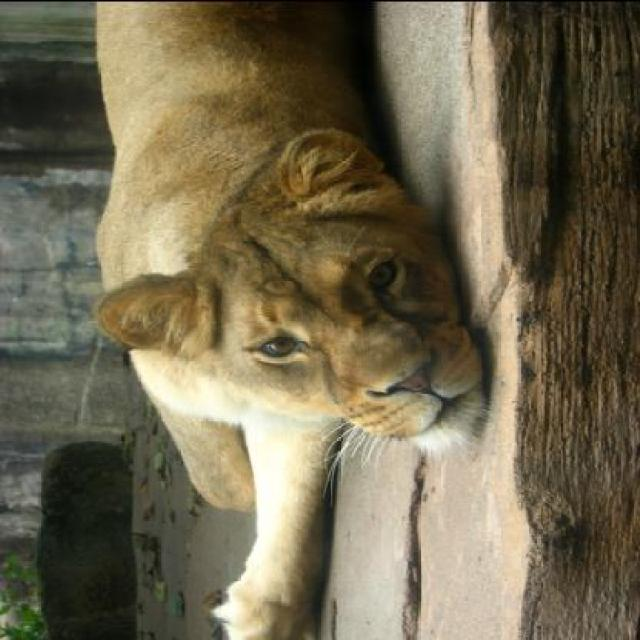Lion: (43, 1, 514, 637)
